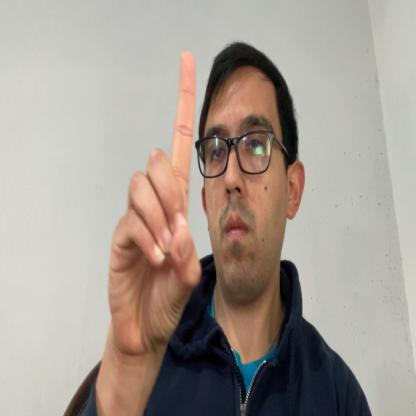D: (107, 51, 201, 355)
